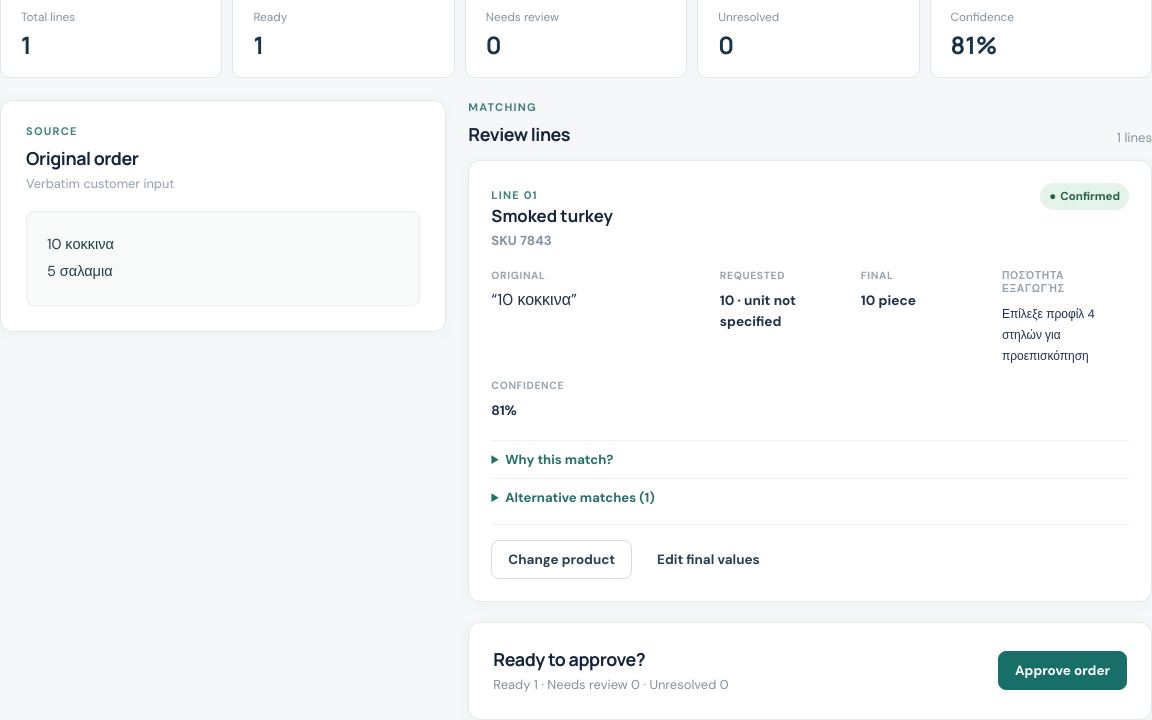
Test case: operator review › refreshes the order when approval recalculates a stale promotion
(page scrolled)
Click the button "Approve order".
click(1063, 671)  # box x1=998 y1=651 x2=1127 y2=690
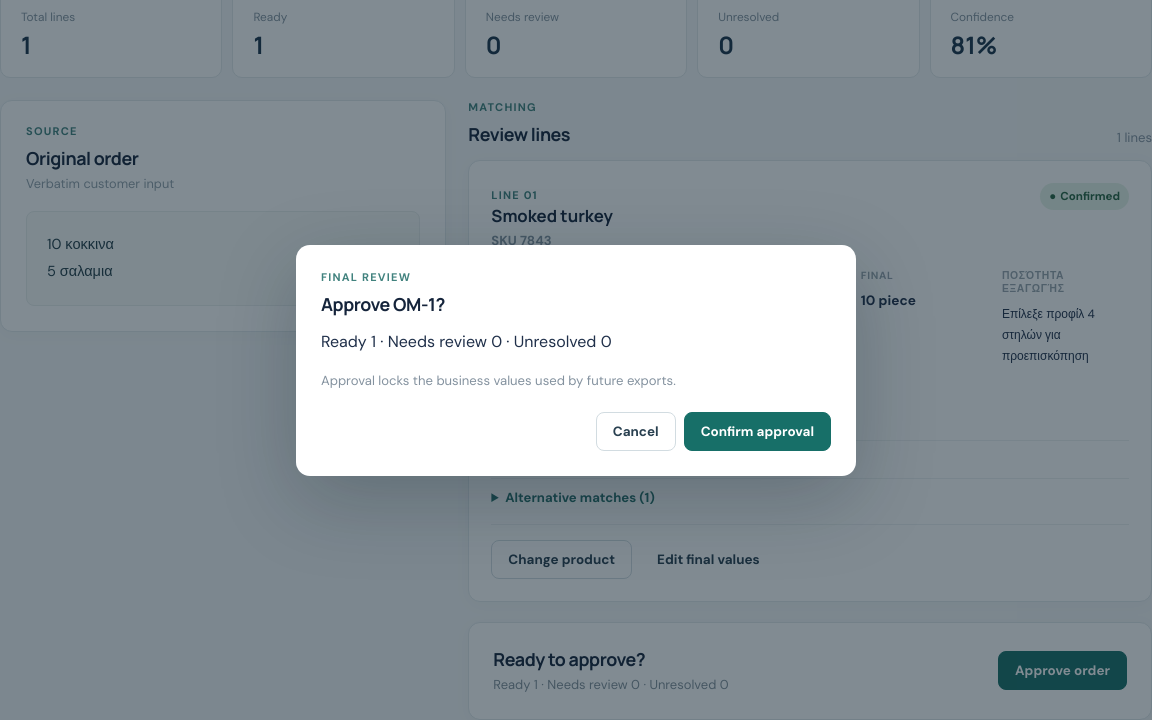
Click the button "Confirm approval".
click(757, 431)  # box x1=684 y1=412 x2=831 y2=450
(page scrolled)
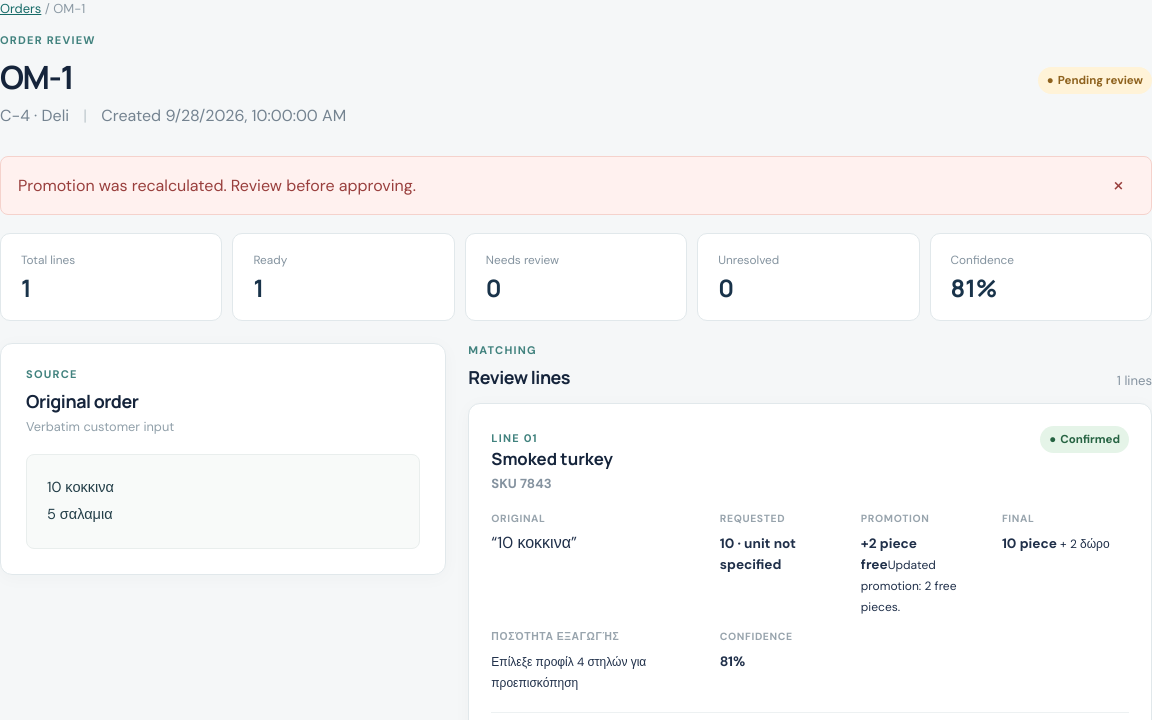
Expected: the text "Updated promotion: 2 free pieces." is shown, x1=861 y1=557 x2=956 y2=615
Expected: the text "Promotion was recalculated. Review before approving." is shown, x1=18 y1=175 x2=416 y2=196
